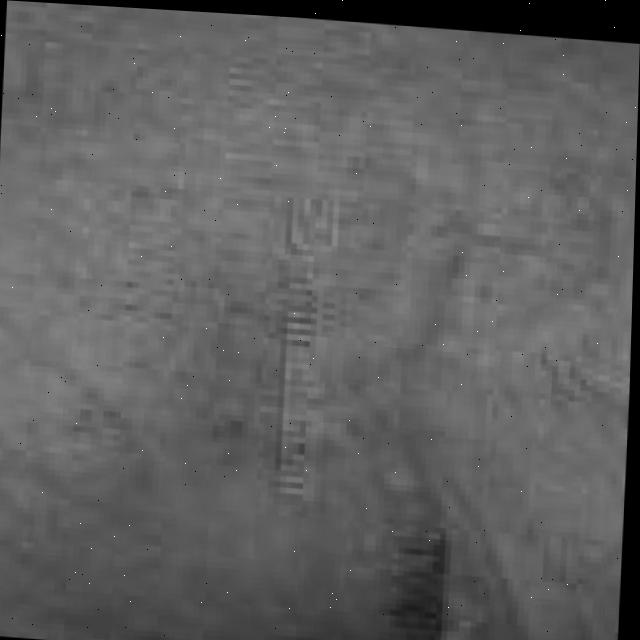Melasma: (201, 279, 407, 490)
